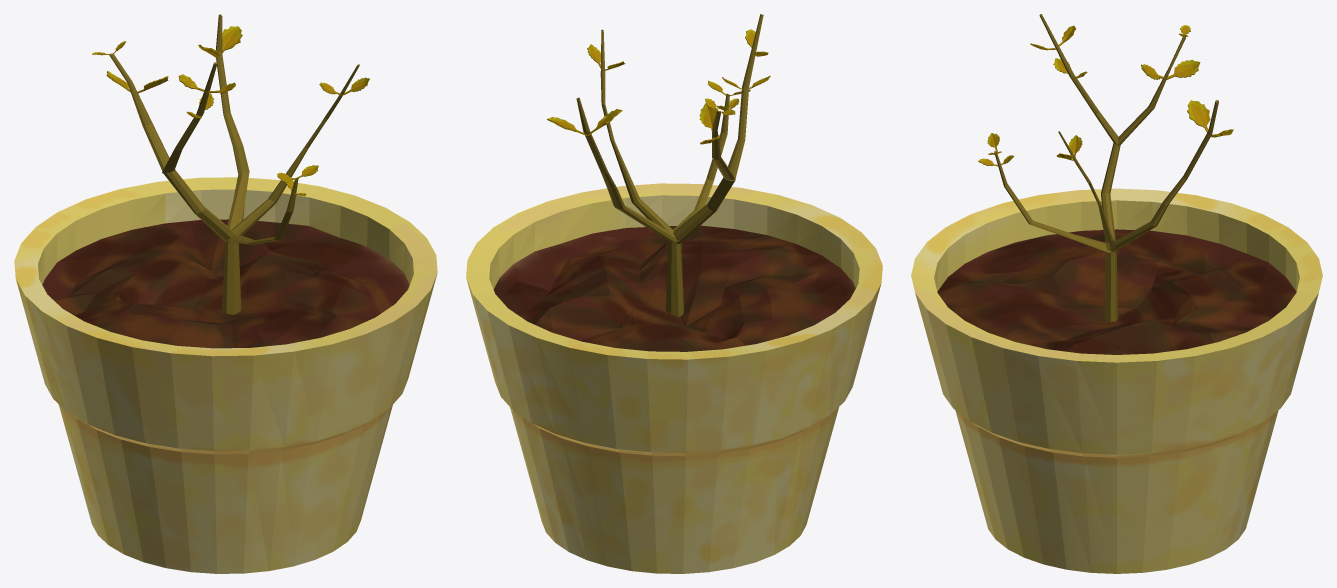
File: Kalanchoe_Dead_End.glb
The picture shows the model from 3 angles, left to right: view 1: azimuth 30°, elevation 25°; view 2: azimuth 150°, elevation 25°; view 3: azimuth 270°, elevation 25°; orthographic projection. The views are drawn at different scales.
Parts seen in each view (by area): view 1: Pot, Plane.098; view 2: Pot, Plane.098; view 3: Pot, Plane.098.
Boxes of the visible parts, left/top/right/bottom form: Pot: left=14, top=177, right=437, bottom=573; Plane.098: left=92, top=14, right=369, bottom=314; Pot: left=466, top=183, right=882, bottom=573; Plane.098: left=547, top=14, right=770, bottom=316; Pot: left=911, top=188, right=1322, bottom=573; Plane.098: left=978, top=14, right=1233, bottom=321.
Bounding box in the file's own units: 2.05 × 2.64 × 2.05.
Materials: 3 (2 with a texture image).
